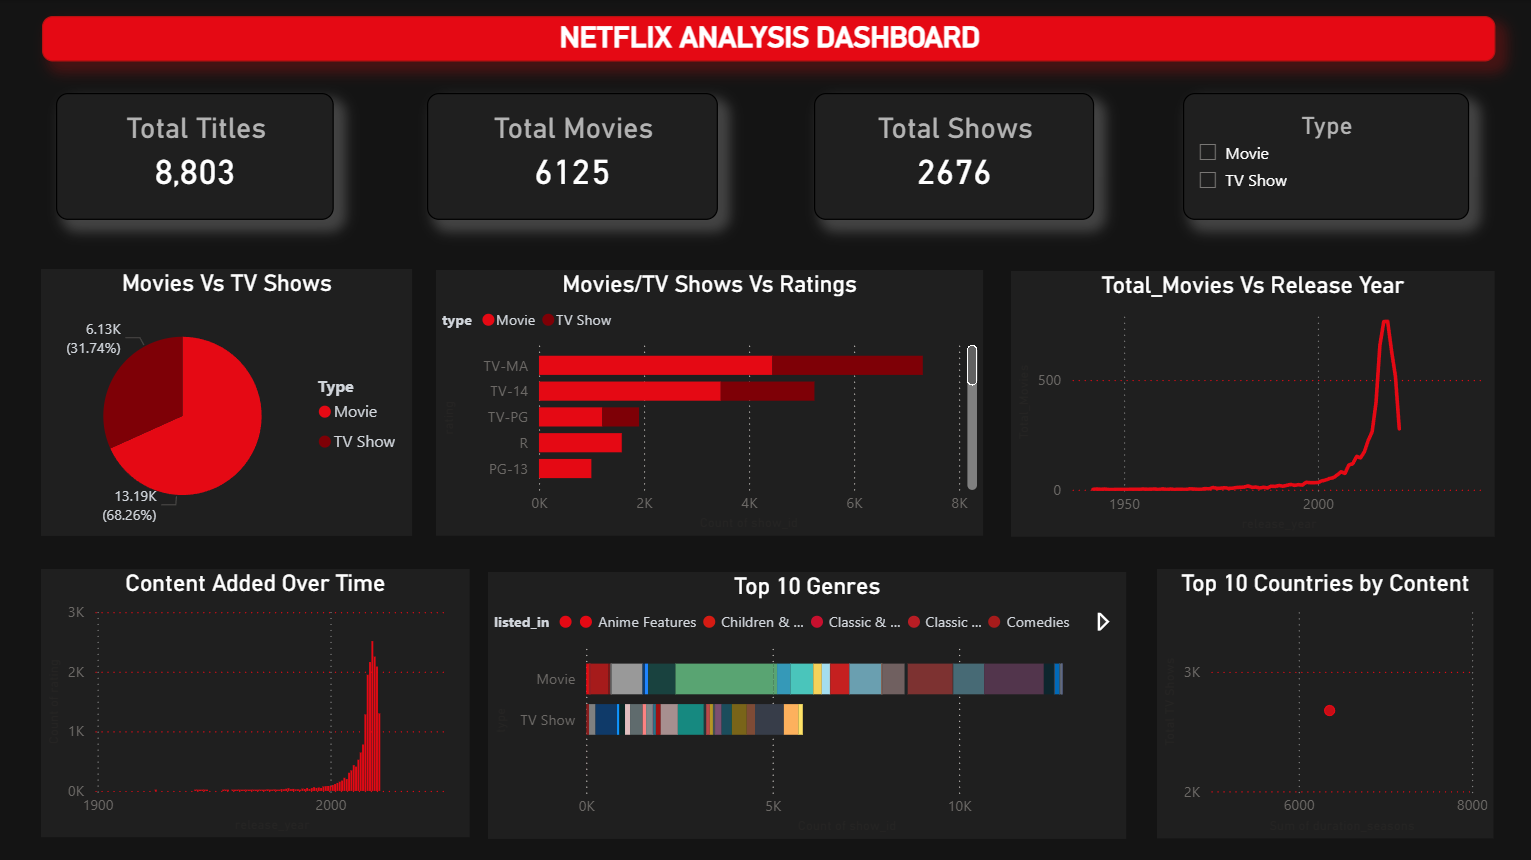

This screenshot's page, from the dashboard's own definition file:
{"tool":"powerbi","page":{"name":"Netflix Data Analysis","canvas":[1280,720],"ordinal":0},"visuals":[{"type":"textbox","title":"NETFLIX ANALYSIS DASHBOARD","box":[35,13.6,1213.9,37.9],"z":0},{"type":"card","title":"Total Titles","fields":{"Values":["netflix_data.Total_Titles"]},"box":[47,78,232.3,106.4],"z":1000},{"type":"card","title":"Total Movies","fields":{"Values":["netflix_data.Total Movies"]},"box":[356.5,78,243,106.4],"z":2000},{"type":"card","title":"Total Shows","fields":{"Values":["netflix_data.Total TV Shows"]},"box":[680.1,78,234.1,106.4],"z":3000},{"type":"slicer","title":"Type","fields":{"Values":["netflix_data.type"]},"box":[987.8,78,238.5,106.4],"z":4000},{"type":"pieChart","title":"Movies Vs TV Shows","fields":{"Category":["netflix_data.type"],"Y":["CountNonNull(netflix_data.show_id)"]},"box":[34.6,224.3,310.3,223.4],"z":5000},{"type":"barChart","title":"Movies/TV Shows Vs Ratings","fields":{"Series":["netflix_data.type"],"Category":["netflix_data.rating"],"Y":["CountNonNull(netflix_data.show_id)"]},"box":[364.3,225.5,456.9,221.7],"z":6000},{"type":"columnChart","title":"Content Added Over Time","fields":{"Y":["CountNonNull(netflix_data.rating)"],"Category":["netflix_data.release_year"]},"box":[34.6,475.3,358.2,224.3],"z":7000},{"type":"lineChart","title":"Total_Movies Vs Release Year","fields":{"Category":["netflix_data.release_year"],"Y":["netflix_data.Total Movies"]},"box":[844.3,226.5,403.9,221.7],"z":8000},{"type":"barChart","title":"Top 10 Genres","fields":{"Category":["netflix_data.type"],"Y":["CountNonNull(netflix_data.show_id)"],"Series":["netflix_data.listed_in"]},"box":[407.5,477.6,533,222.7],"z":9000},{"type":"scatterChart","title":"Top 10 Countries by Content","fields":{"X":["Sum(netflix_data.duration_seasons)"],"Y":["netflix_data.Total TV Shows"]},"box":[966.8,475.6,281.1,224.7],"z":10000}]}

Visuals, with their boxes in screenshot pixels (x1, y1, x2, y2), scaled from the page's 1280x720 canvas onto the 1531x860 screenshot:
"NETFLIX ANALYSIS DASHBOARD" textbox: select_region(42, 16, 1494, 62)
"Total Titles" card: select_region(56, 93, 334, 220)
"Total Movies" card: select_region(426, 93, 717, 220)
"Total Shows" card: select_region(813, 93, 1093, 220)
"Type" slicer: select_region(1182, 93, 1467, 220)
"Movies Vs TV Shows" pieChart: select_region(41, 268, 413, 535)
"Movies/TV Shows Vs Ratings" barChart: select_region(436, 269, 982, 534)
"Content Added Over Time" columnChart: select_region(41, 568, 470, 836)
"Total_Movies Vs Release Year" lineChart: select_region(1010, 271, 1493, 535)
"Top 10 Genres" barChart: select_region(487, 570, 1125, 836)
"Top 10 Countries by Content" scatterChart: select_region(1156, 568, 1493, 836)
